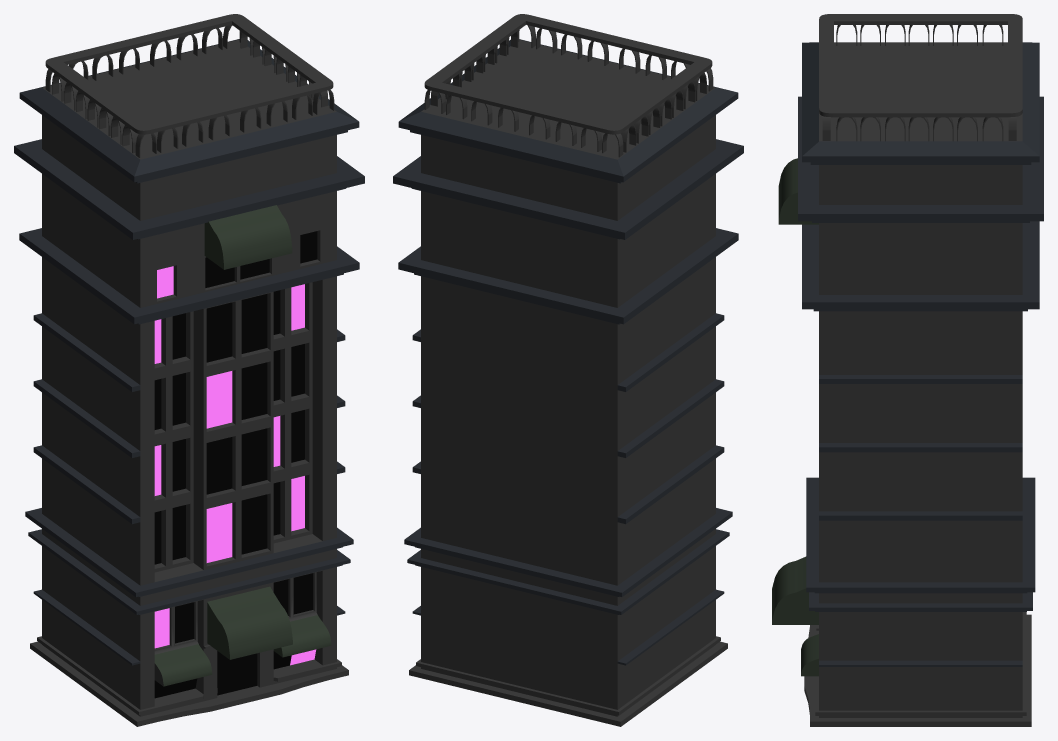
Rendered from Building1 pink.fbx.
3 views of the same model, side by side, from view 1: azimuth 30°, elevation 25°; view 2: azimuth 150°, elevation 25°; view 3: azimuth 270°, elevation 25° (orthographic). The views are drawn at different scales.
Parts seen in each view (by area): view 1: building.003; view 2: building.003; view 3: building.003.
Boxes of the visible parts, x1,y1,x2,y2 form: building.003: [14, 14, 364, 726]; building.003: [393, 14, 743, 726]; building.003: [772, 14, 1043, 726].
Size of the model in its own units: 163 by 397 by 160.
